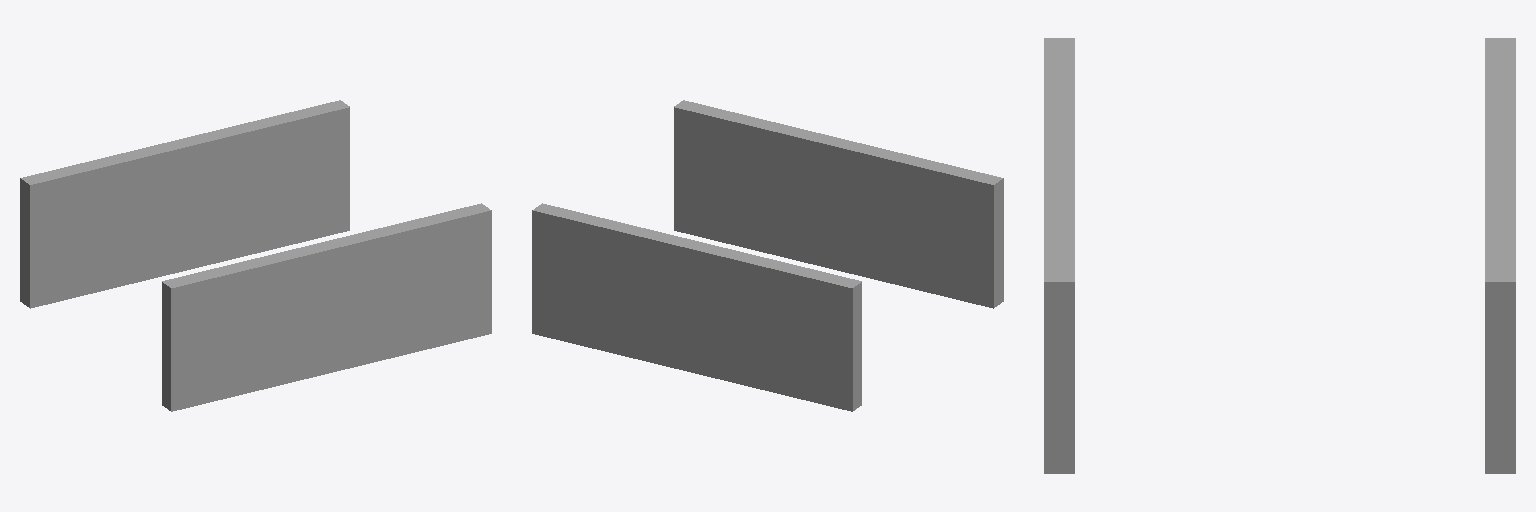
URDF robot description (ramp):
<?xml version="1.0"?>
<robot name="ramp">

  <link name="ramp_link">

    <!-- Approximate mass/inertia -->
    <inertial>
      <origin xyz="0.1016 0 0.0254" rpy="0 0 0"/>
      <mass value="1.0"/>
      <inertia
        ixx="0.001"
        ixy="0.0"
        ixz="0.0"
        iyy="0.001"
        iyz="0.0"
        izz="0.001"/>
    </inertial>

    <!-- Ramp (mesh) -->
    <visual>
      <origin xyz="0 0 0" rpy="0 0 0"/>
      <geometry>
        <mesh filename="/mnt/data0/three_d_printer/dairlib/examples/sampling_c3/urdf/3d_Printer/ramp.obj"/>
      </geometry>
      <material name="gray">
        <color rgba="0.7 0.7 0.7 1.0"/>
      </material>
    </visual>

    <collision>
      <origin xyz="0 0 0" rpy="0 0 0"/>
      <geometry>
        <mesh filename="/mnt/data0/three_d_printer/dairlib/examples/sampling_c3/urdf/3d_Printer/ramp.obj"/>
      </geometry>
    </collision>

    <!-- Platform -->
    <visual>
      <!-- Center of platform -->
      <origin xyz="0.02 -0.145 0.035" rpy="0 0 0"/>
      <geometry>
        <box size="0.19 0.01 0.07"/>
      </geometry>
      <material name="gray"/>
    </visual>

    <collision>
      <origin xyz="0.02 -0.145 0.035" rpy="0 0 0"/>
      <geometry>
        <box size="0.19 0.01 0.07"/>
      </geometry>
    </collision>

    <visual>
      <!-- Center of platform -->
      <origin xyz="0.02 0.0 0.035" rpy="0 0 0"/>
      <geometry>
        <box size="0.19 0.01 0.07"/>
      </geometry>
      <material name="gray"/>
    </visual>

    <collision>
      <origin xyz="0.02 0.0 0.035" rpy="0 0 0"/>
      <geometry>
        <box size="0.19 0.01 0.07"/>
      </geometry>
    </collision>

  </link>

</robot>

--- What the picture shows (computed from the rendered views, not written in the file) ---
Views: 3 orthographic renders of the robot side by side, from view 1: azimuth 30°, elevation 25°; view 2: azimuth 150°, elevation 25°; view 3: azimuth 270°, elevation 25°.
Model ramp with 1 links and 0 joints (none), rooted at ramp_link, posed all joints at 0.
Visible links, largest first — view 1: ramp_link; view 2: ramp_link; view 3: ramp_link.
Link boxes in pixels (bbox=[...]): ramp_link: bbox=[20, 100, 491, 411]; ramp_link: bbox=[532, 100, 1003, 411]; ramp_link: bbox=[1044, 38, 1515, 473].
Size in the robot's own frame: 0.19 by 0.155 by 0.07 metres.
Geometry: only primitive shapes (box / cylinder / sphere) drawn; not drawn: 1 mesh visual (reference in a form the renderer does not follow).
